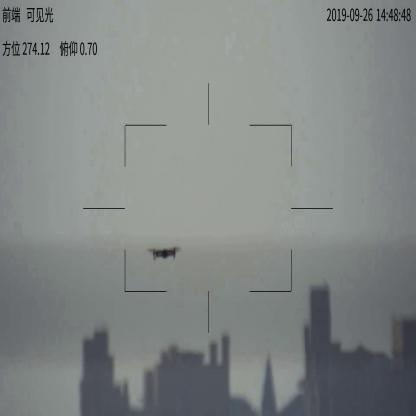uav: (149, 243, 180, 260)
